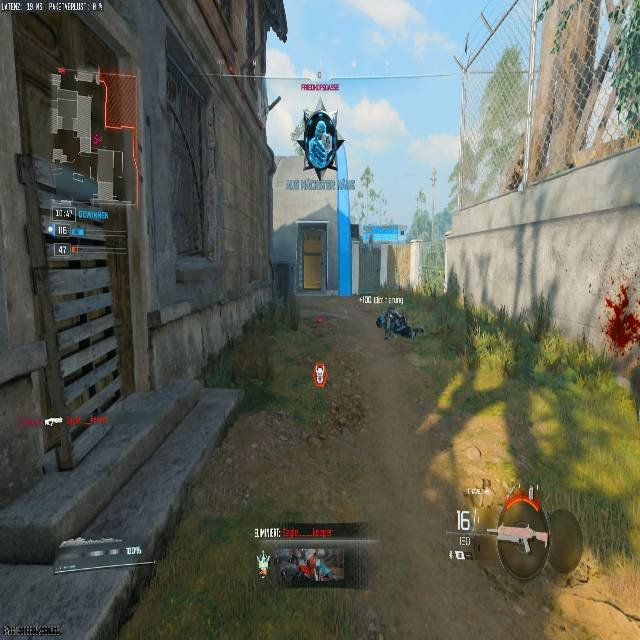head: (376, 314, 385, 327)
player: (300, 107, 342, 180), (375, 306, 424, 341)
